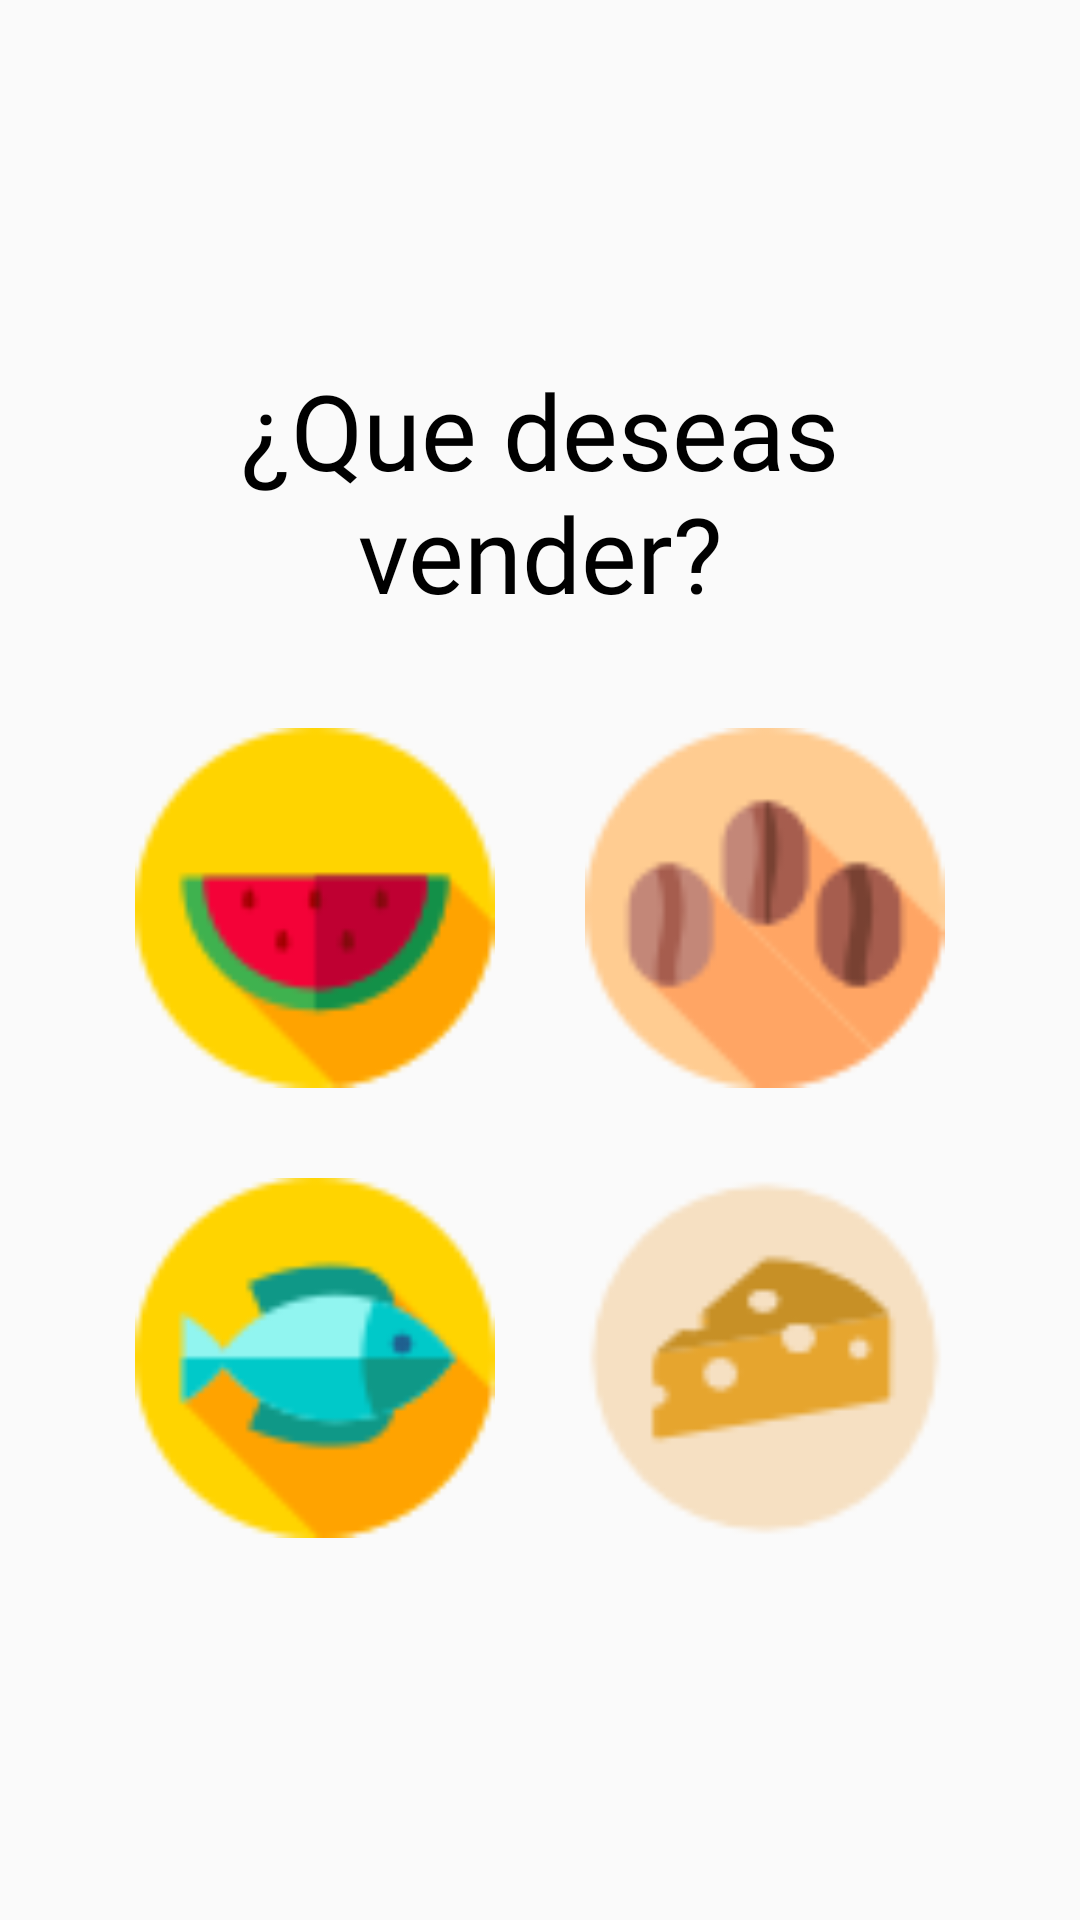

Icon bounding boxes for this 1080x1920 phone screenshot, format (x1, y1, x2, y2):
lacteos: (592, 1185, 938, 1531)
semillas: (585, 728, 945, 1088)
